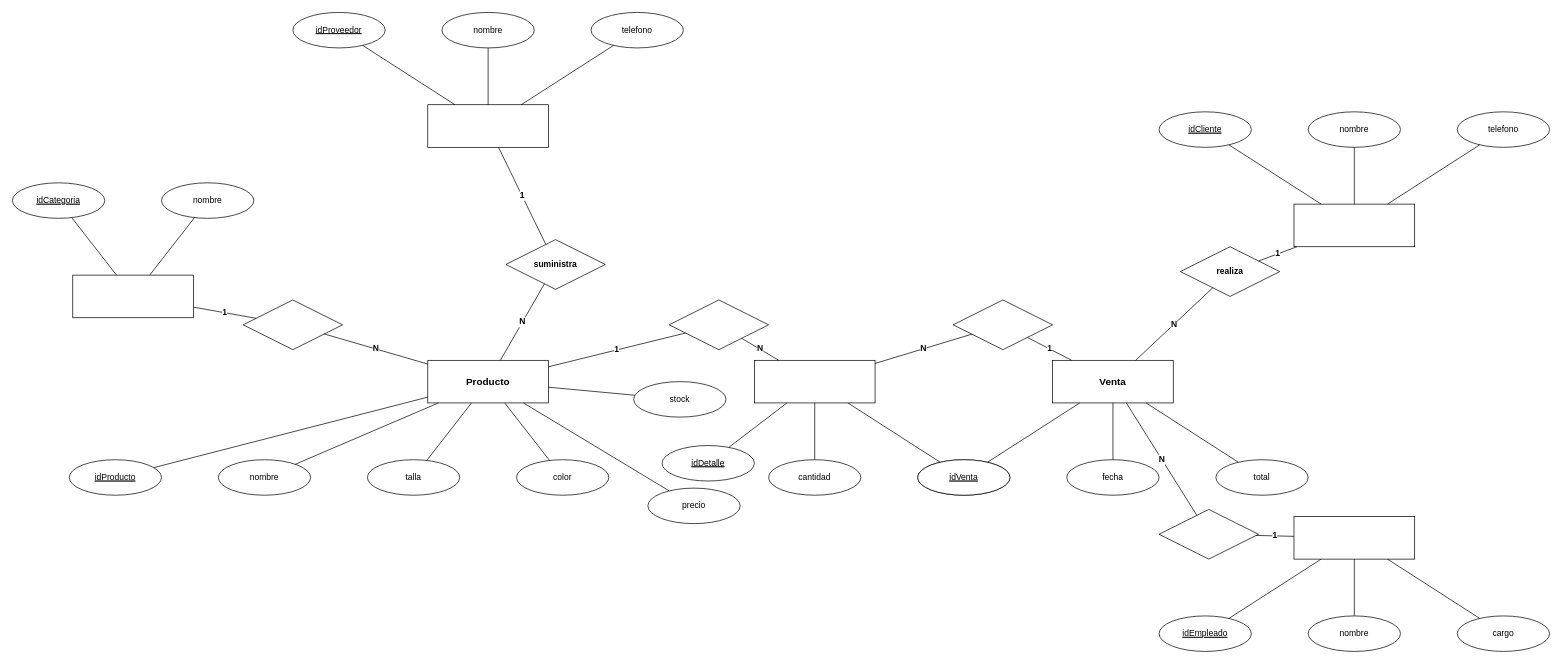
The diagram is 1562 pixels wide and 664 high, and some of its shapes have lost their labels. Each missing label, with the centre of its shape:
"atiende" goes at [1208,534].
"Categoria" goes at [132,296].
"clasifica" goes at [292,324].
"Cliente" goes at [1354,225].
"contiene" goes at [718,324].
"DetalleVenta" goes at [814,381].
"Empleado" goes at [1354,537].
"incluye" goes at [1002,324].
"Proveedor" goes at [487,125].
